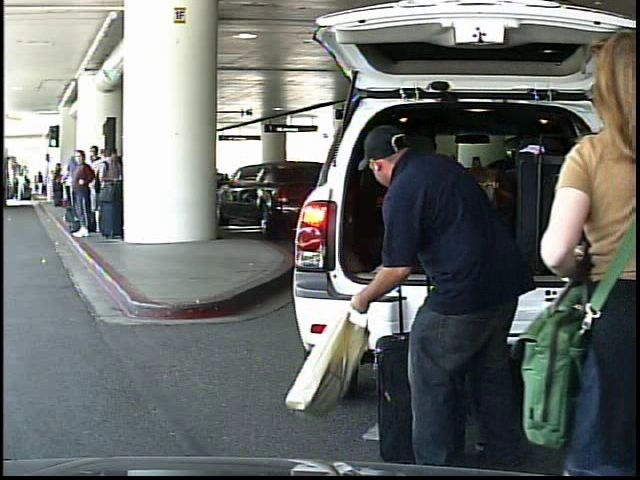person: (341, 113, 521, 480), (17, 174, 28, 205), (36, 172, 46, 199)
